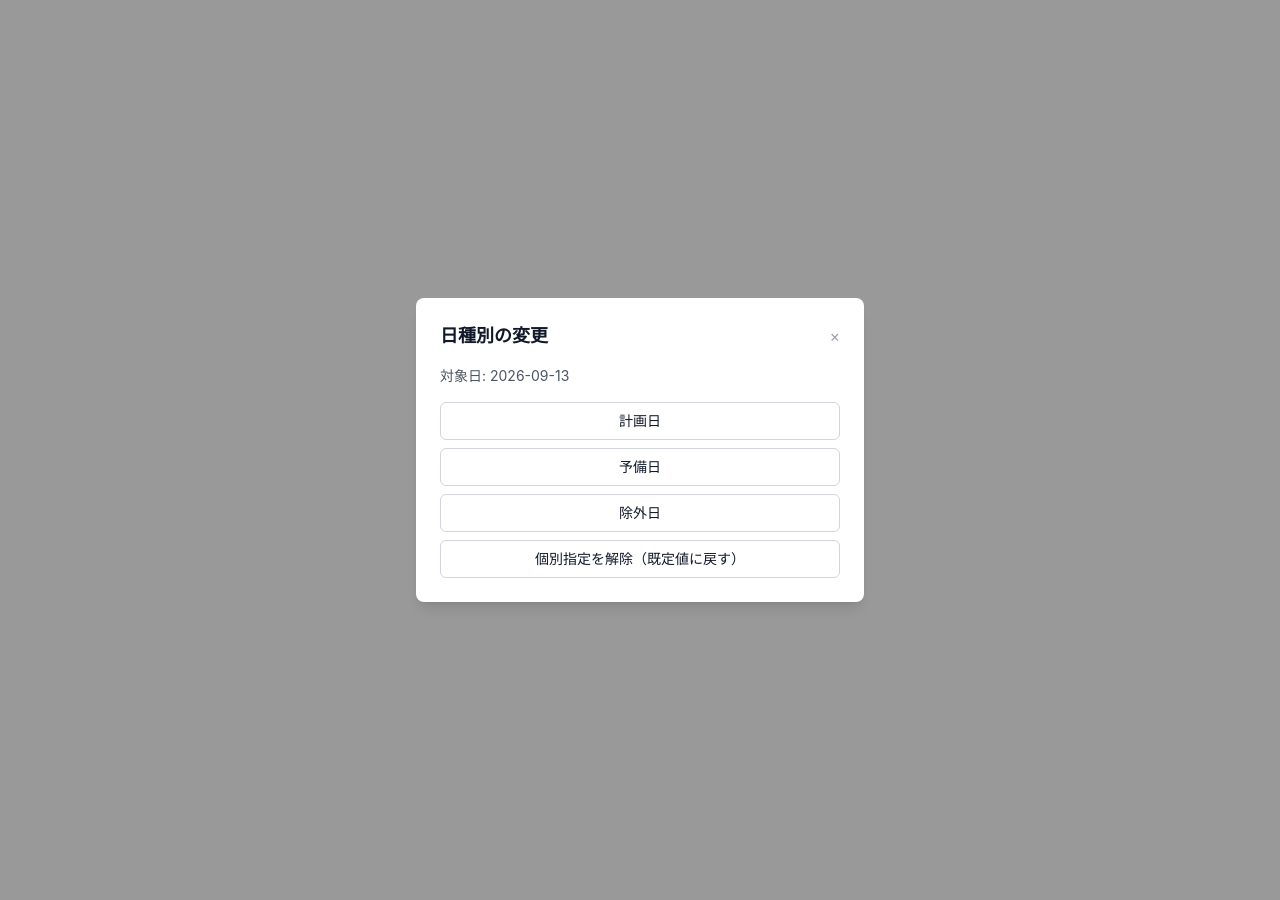
Test case: DayTypeEditModal › keeps the clear button pressed-proof while clearing
Click the button "個別指定を解除（既定値に戻す）".
click(640, 559)  # box 440,540 -> 840,578
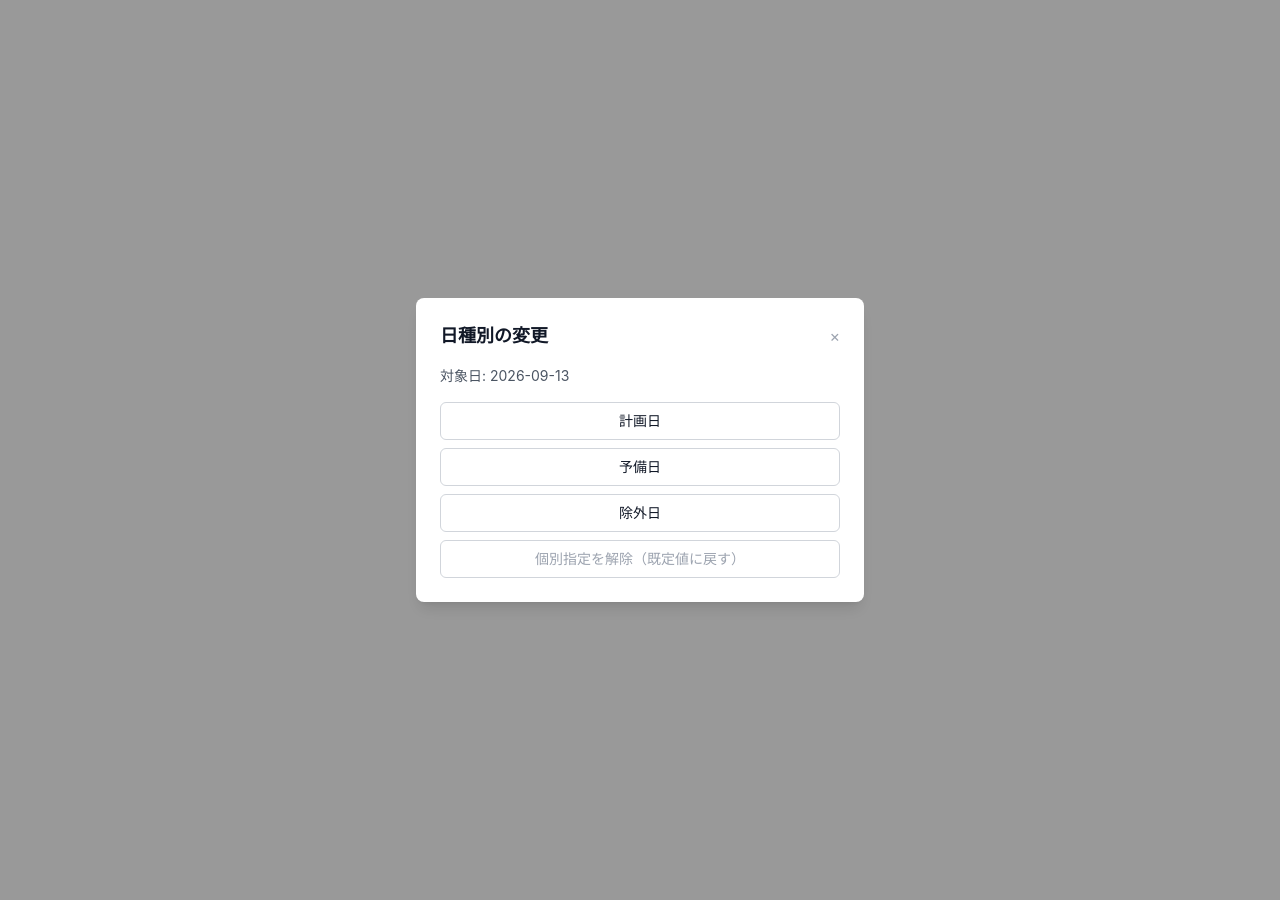
Now the button "個別指定を解除（既定値に戻す）" is disabled, box 440,540 -> 840,578
